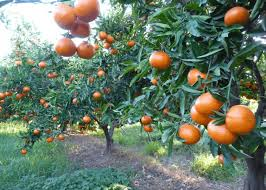orange: (224, 103, 257, 135), (207, 118, 240, 146), (179, 65, 213, 89), (144, 50, 173, 73), (195, 91, 224, 113), (222, 8, 250, 28), (53, 39, 77, 59), (76, 40, 95, 61)
